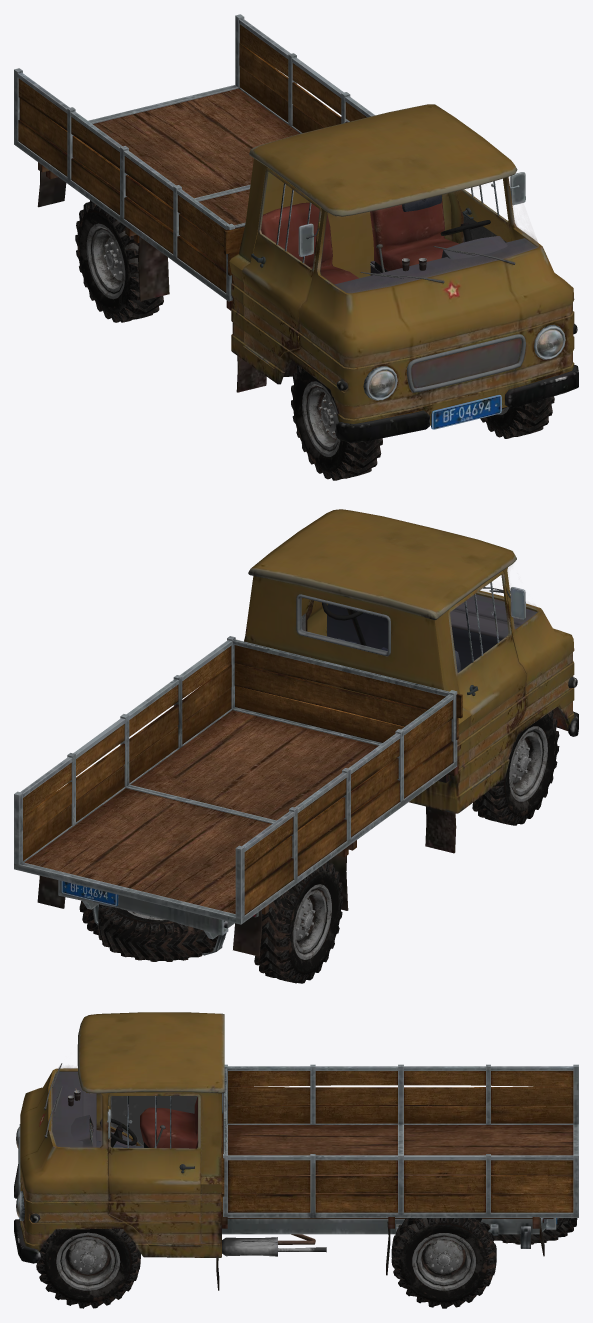
The model's file is truck.glb.
3 views of the same model, one above another, from view 1: azimuth 30°, elevation 25°; view 2: azimuth 150°, elevation 25°; view 3: azimuth 270°, elevation 25° (orthographic). The views are drawn at different scales.
Parts seen in each view (by area): view 1: Box080, Tire001, Plane003; view 2: Box080, Tire001; view 3: Box080, Tire001.
Part boxes in pixels (<box>): Box080: <box>14,14,578,443</box>; Tire001: <box>75,200,554,480</box>; Plane003: <box>320,177,538,292</box>; Box080: <box>14,509,578,956</box>; Tire001: <box>79,710,559,983</box>; Box080: <box>14,1012,578,1290</box>; Tire001: <box>36,1218,577,1308</box>.
Size of the model in its own units: 4394 by 4804 by 10863.
6 materials, 6 textured.
